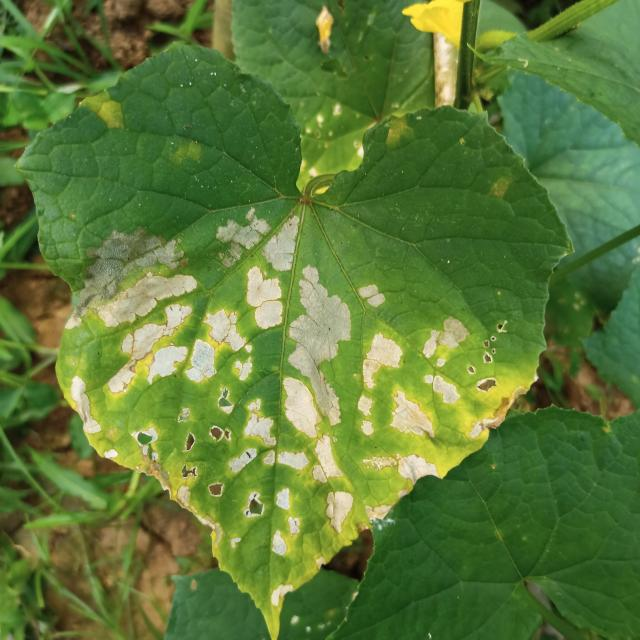disease_cucumber: (59, 202, 523, 619), (73, 86, 140, 139)
